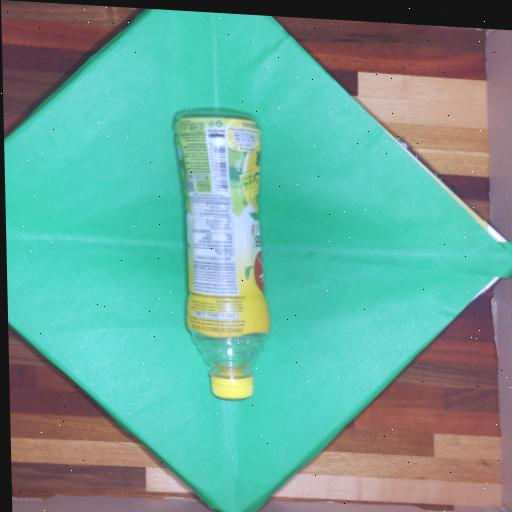bottle: (169, 93, 277, 413)
